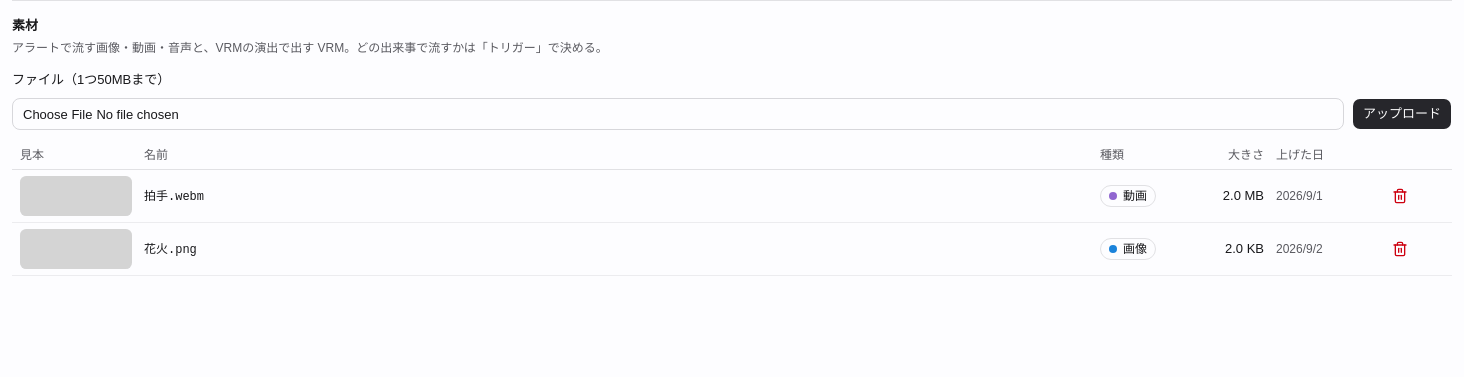
Test: アップロード › ファイルを選ばずにアップロードしようとしたら、理由を出す
The image size is (1464, 377).
Click the button "アップロード". click: (1402, 114)
box: x1=1352 y1=98 x2=1452 y2=130
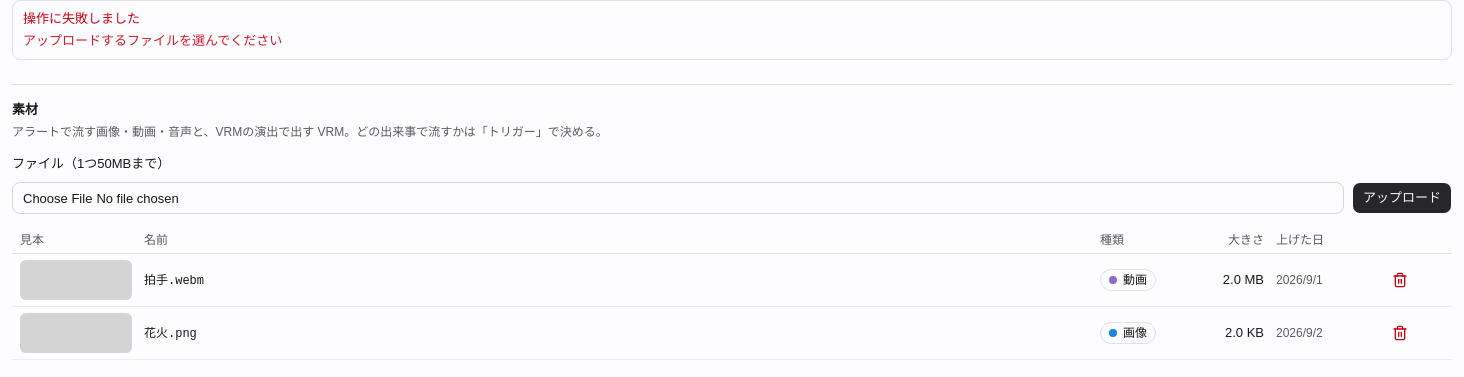
Result: the message shows "アップロードするファイルを選んでください" at x1=23 y1=33 x2=282 y2=48
